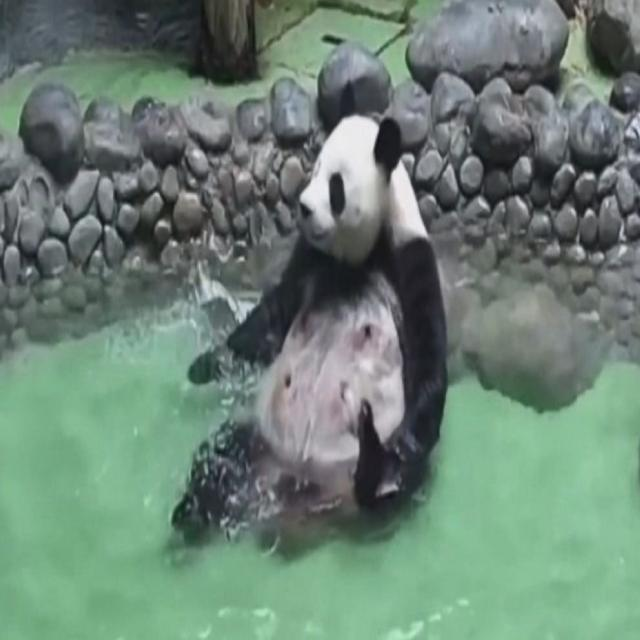Panda: (160, 102, 453, 569)
